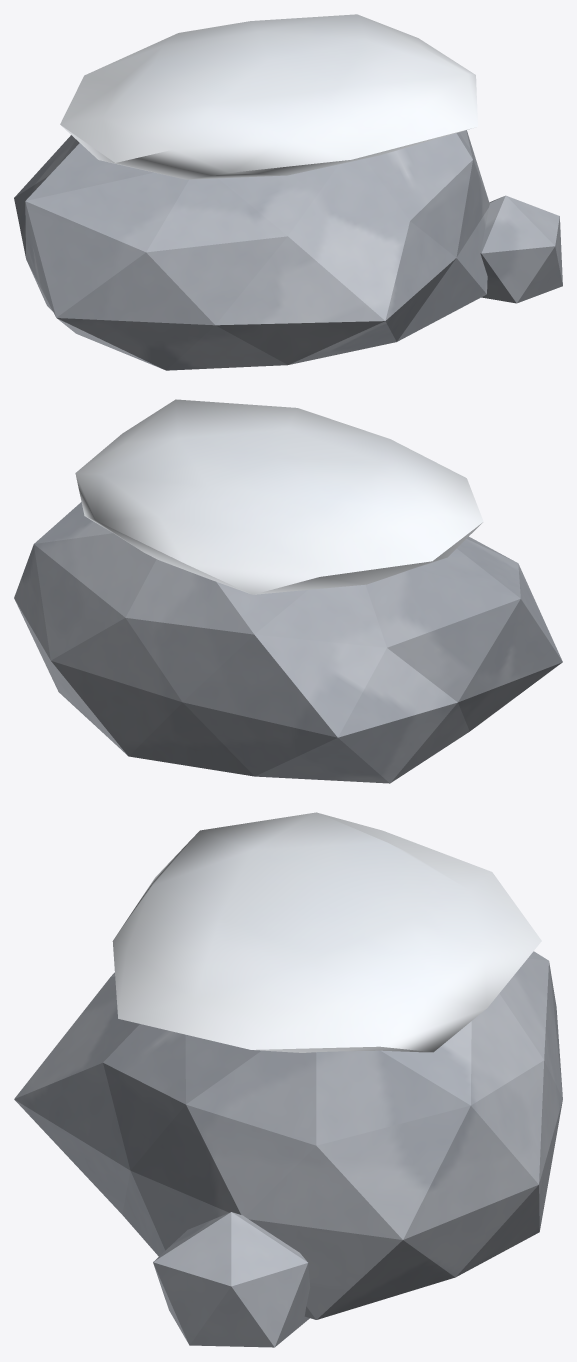
Rendered from snow_rock.gltf.
3 views of the same model, one above another, from view 1: azimuth 30°, elevation 25°; view 2: azimuth 150°, elevation 25°; view 3: azimuth 270°, elevation 25° (orthographic). The views are drawn at different scales.
Parts seen in each view (by area): view 1: snow_rock; view 2: snow_rock; view 3: snow_rock.
Boxes of the visible parts, left/top/right/bottom form: snow_rock: left=14, top=14, right=562, bottom=370; snow_rock: left=14, top=399, right=562, bottom=783; snow_rock: left=14, top=812, right=562, bottom=1347.
Bounding box in the file's own units: 1.7 × 0.8115 × 1.29.
Materials: 1 (1 with a texture image).
